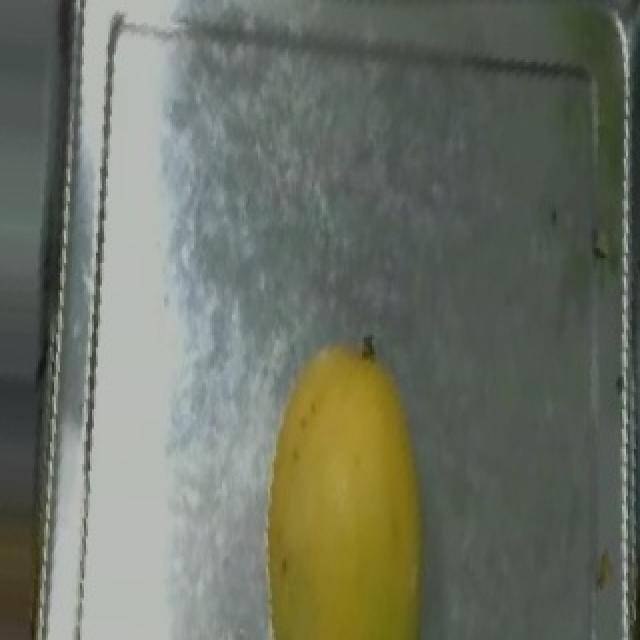fruit: (240, 325, 442, 640)
